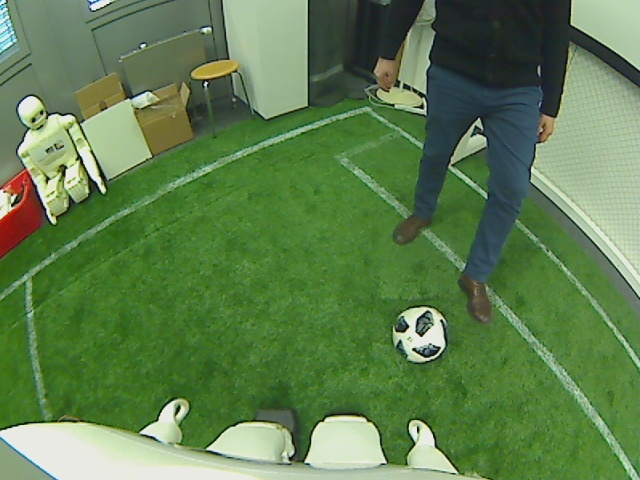ball: (392, 305, 447, 365)
